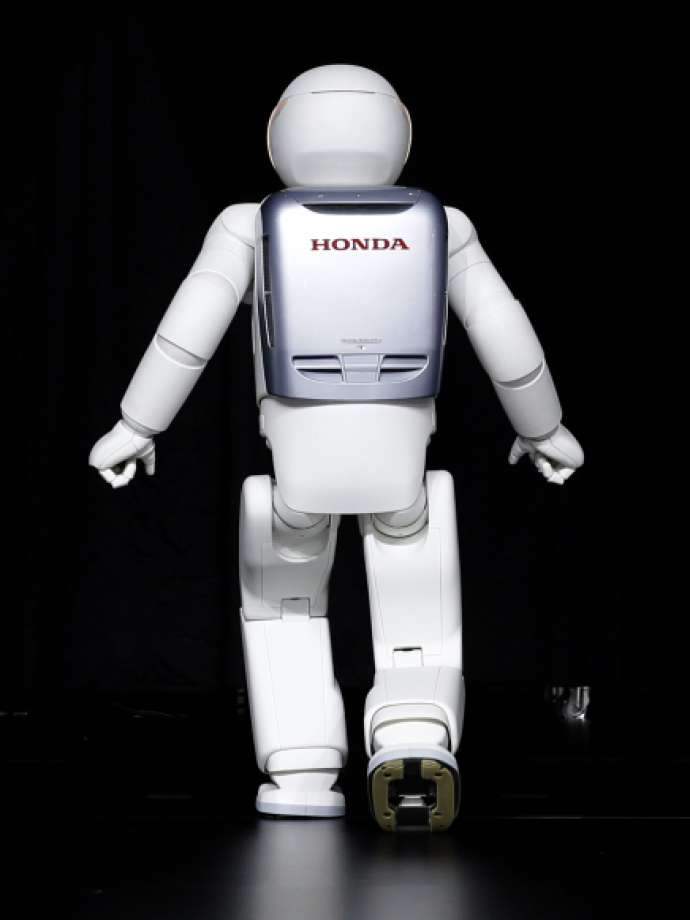person-like: (80, 52, 591, 840)
